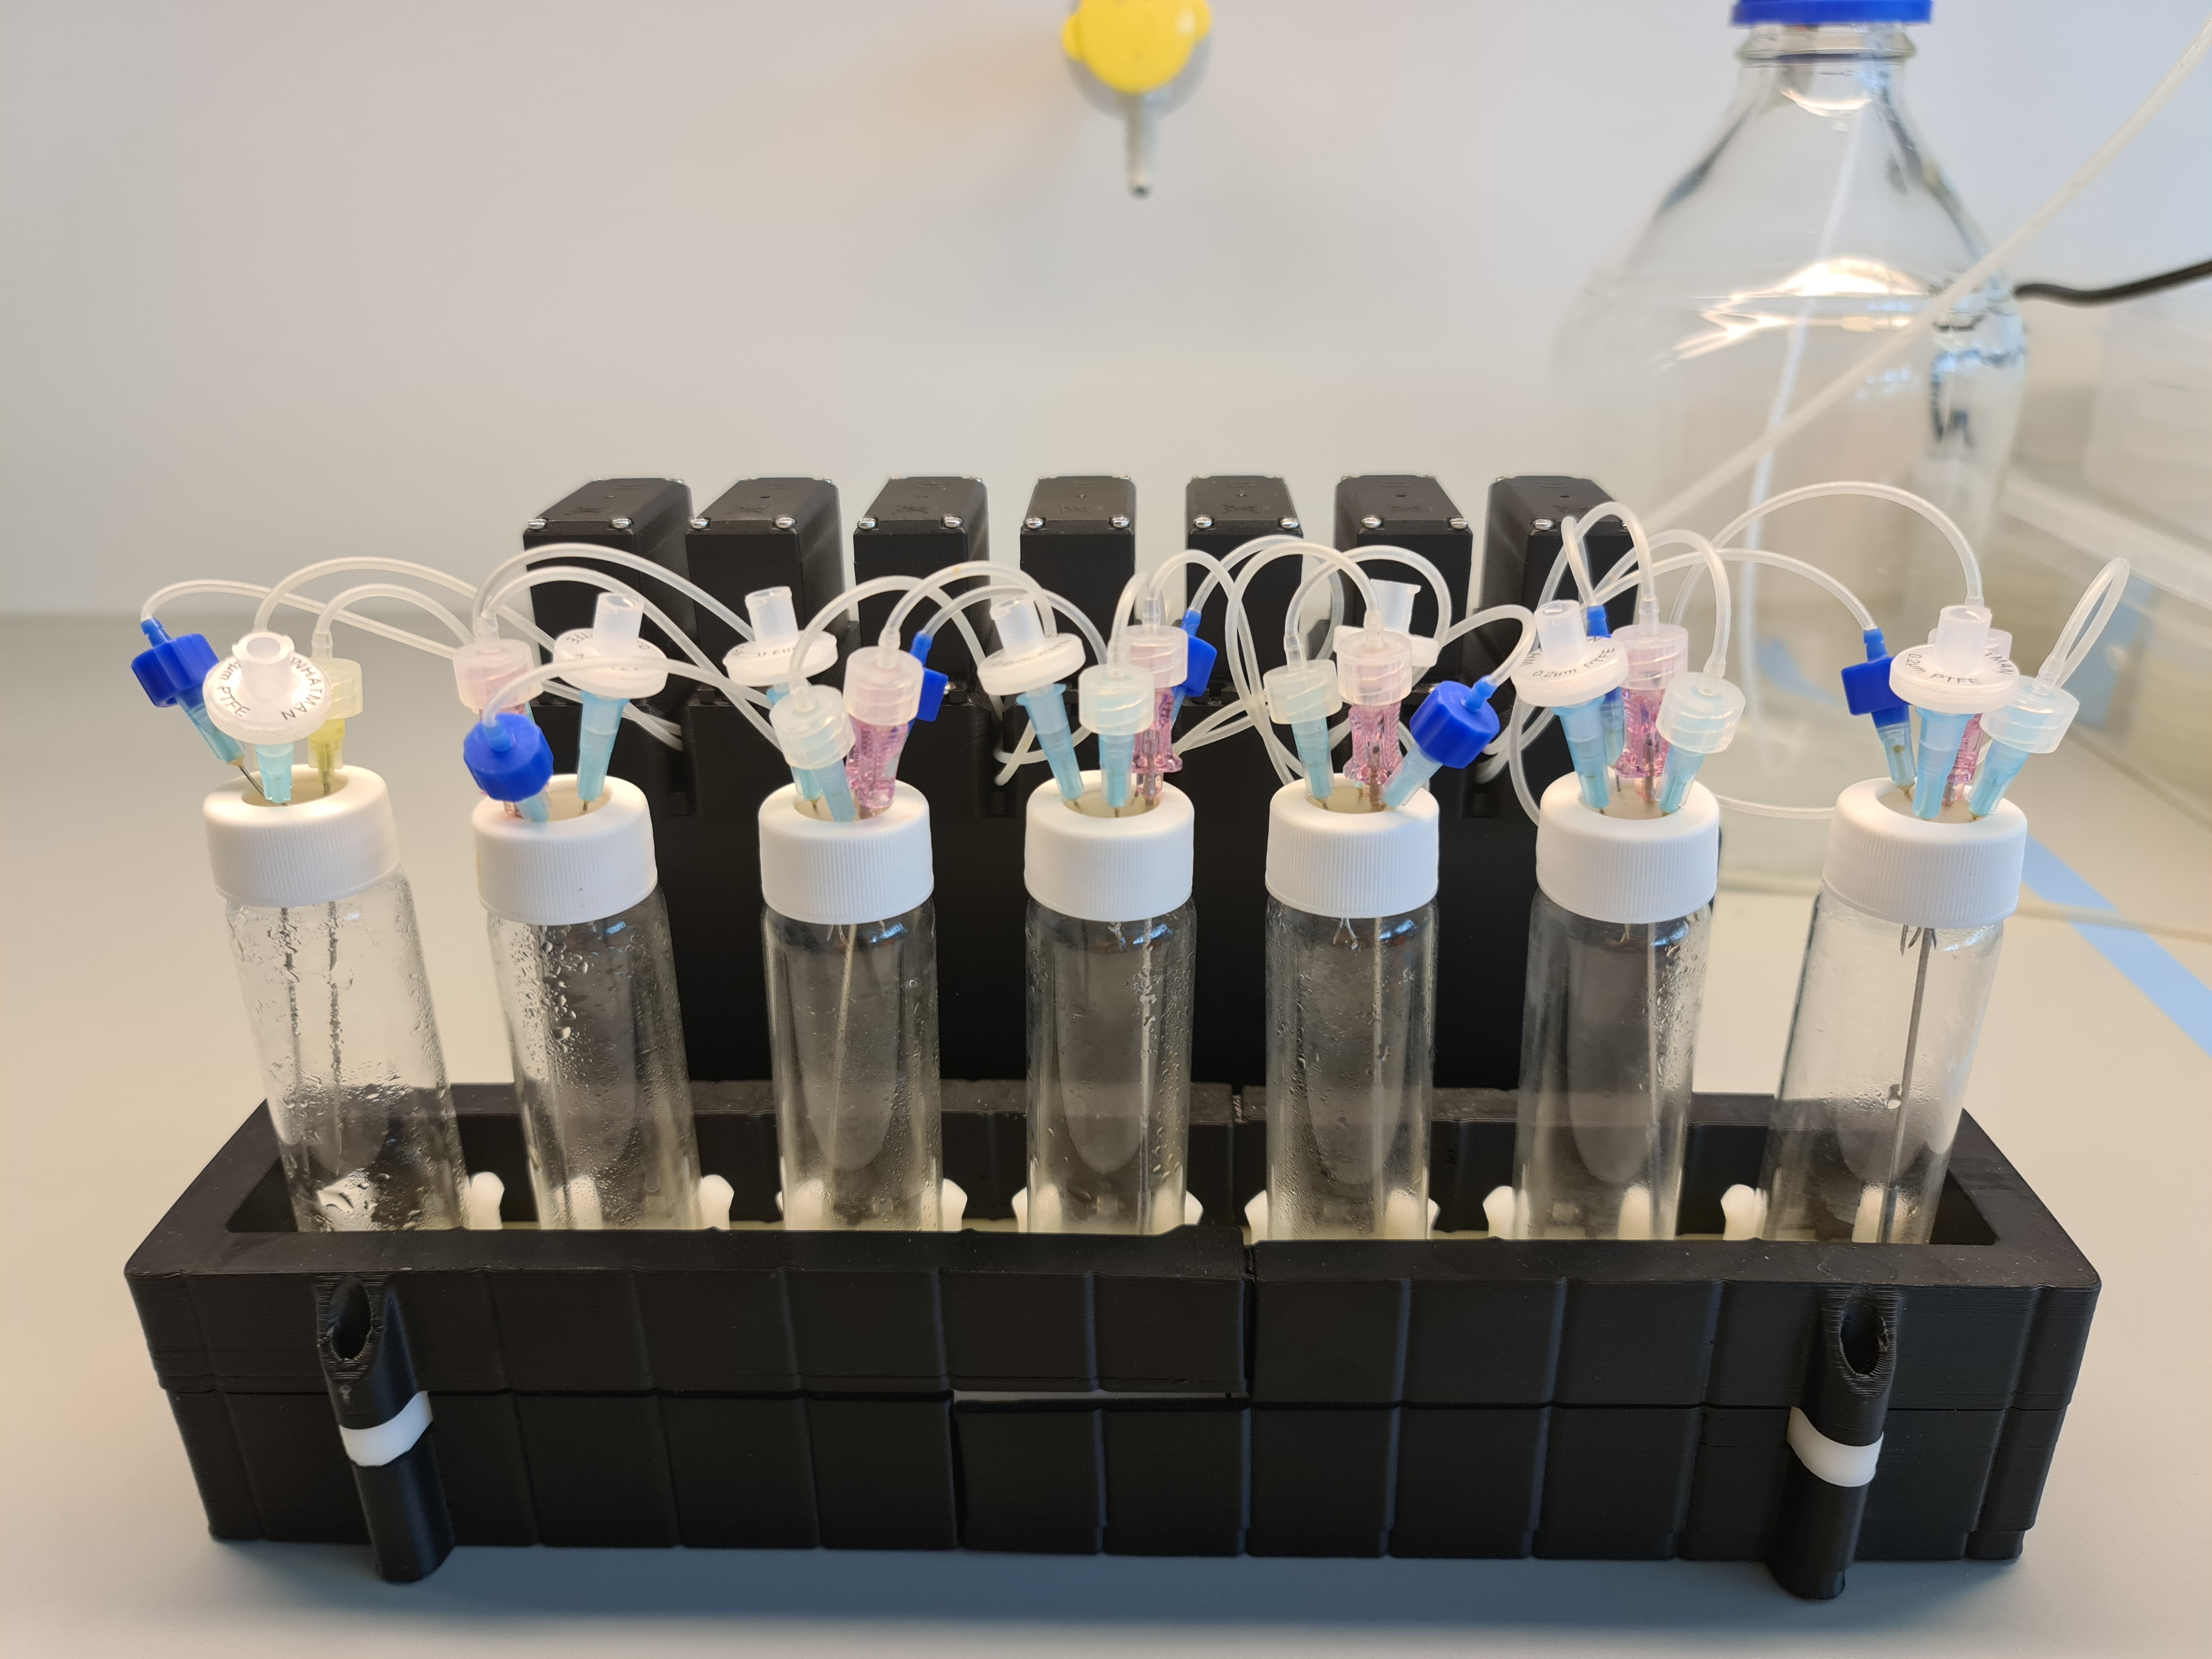vial: (1757, 755, 2031, 1246), (197, 767, 481, 1232), (465, 767, 709, 1227), (1512, 762, 1724, 1243), (742, 767, 953, 1229), (1010, 774, 1198, 1227), (1256, 774, 1439, 1237)
